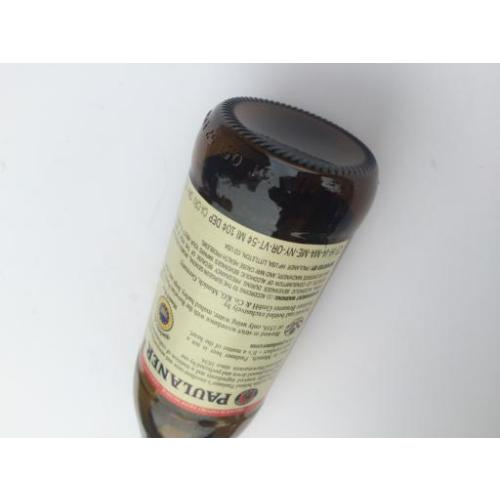glass: (140, 98, 372, 437)
